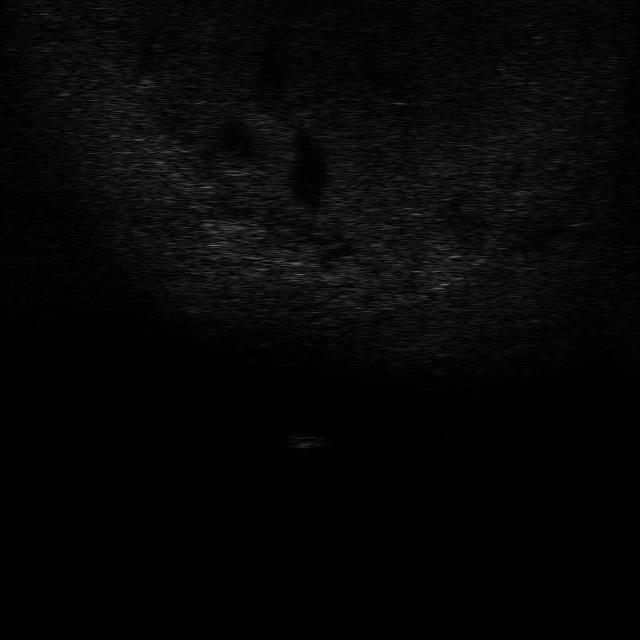cube: (288, 433, 332, 450)
